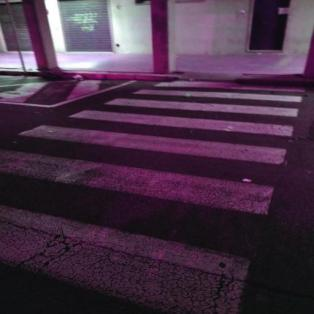Paso de Cebra: (67, 97, 312, 140)
